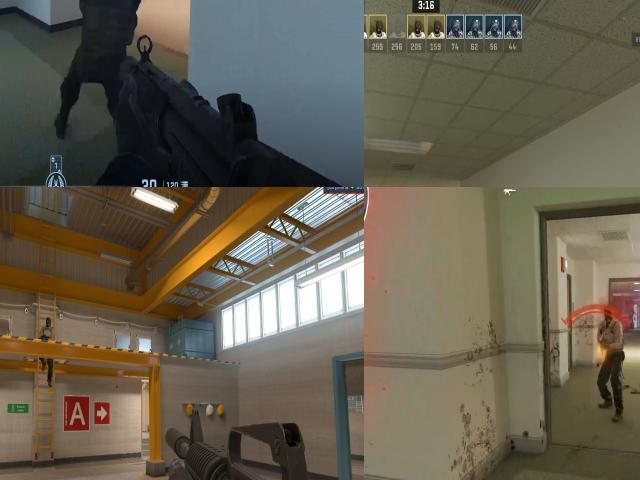CT: (73, 0, 146, 70)
T: (594, 307, 626, 368), (40, 317, 55, 368)
T-Head: (604, 300, 616, 326), (45, 318, 52, 329)
